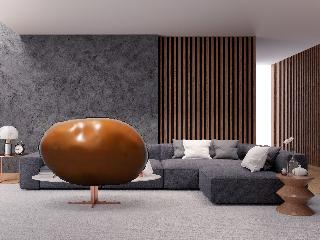potato: (38, 115, 151, 187)
